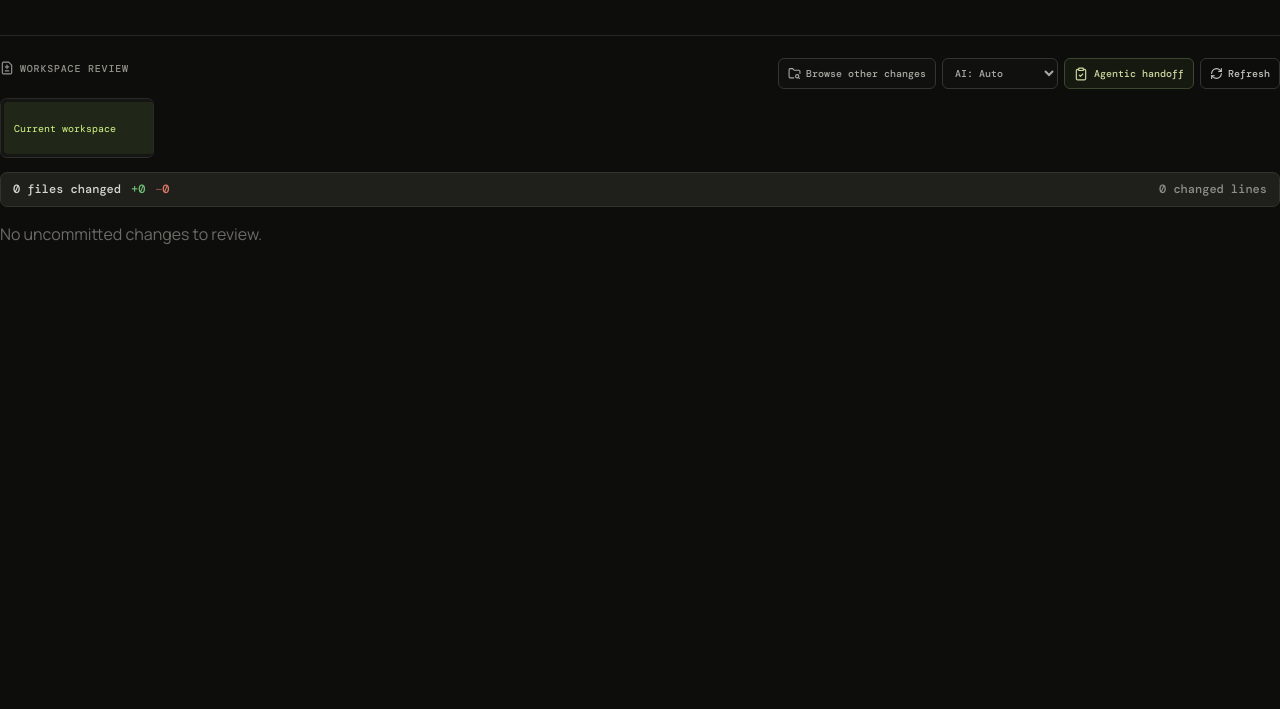
Test case: WorkspaceDiffView repository browser › browses the selected repository through a single commit selector
The image size is (1280, 709).
Click the button "Browse other changes" at (857, 74), box [778,58,936,89]
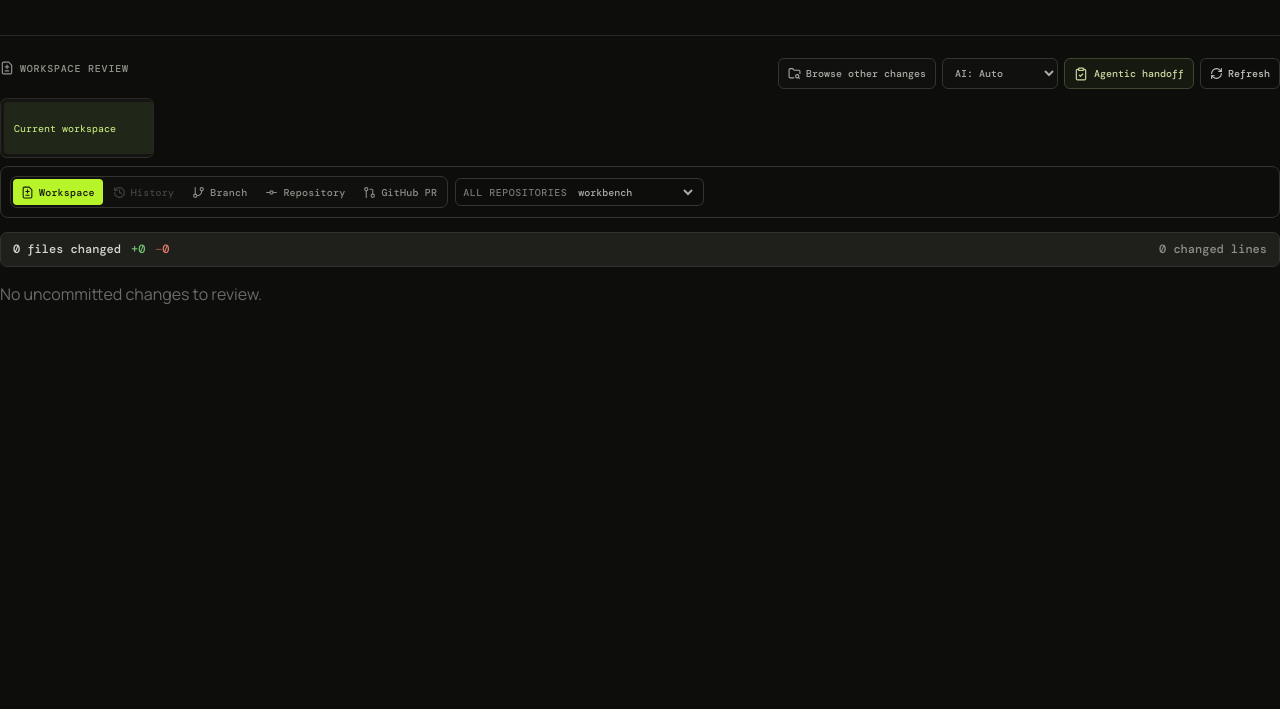
Click the button "Repository" at (305, 192), box [257,179,353,205]
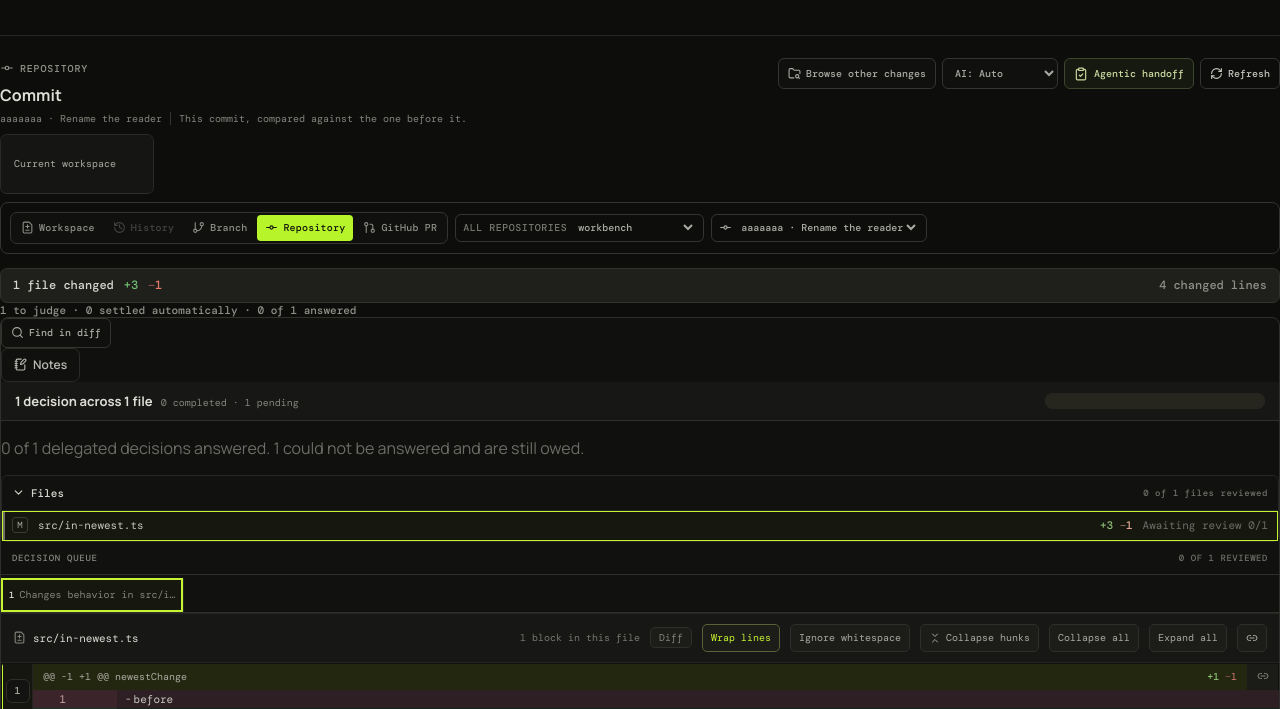
Now the dropdown named "Commit" shows "aaaaaaa · Rename the reader"
Select "bbbbbbb · Add the reader" in the dropdown named "Commit" at (828, 228), box [737,220,919,235]
(page scrolled)
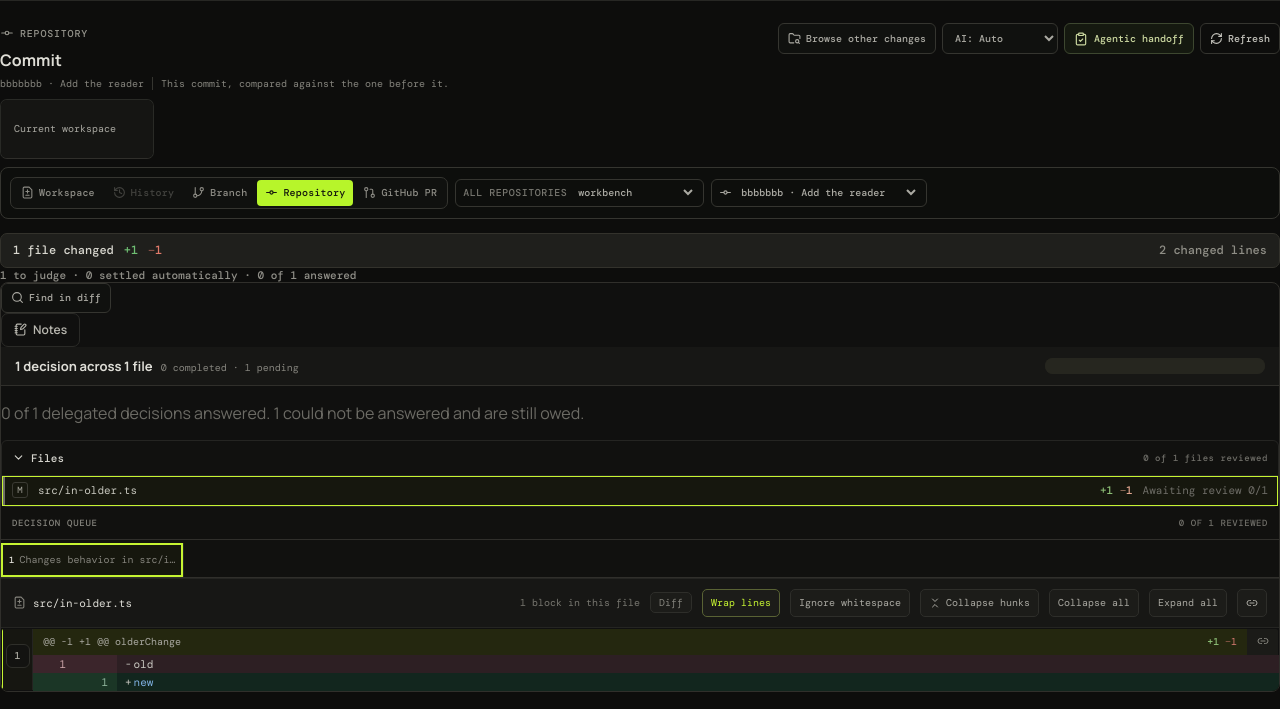
Now the element named "Full diff for src/in-older.ts" is shown, box [1,579,1279,691]
Now the button "src/in-newest.ts" is gone
